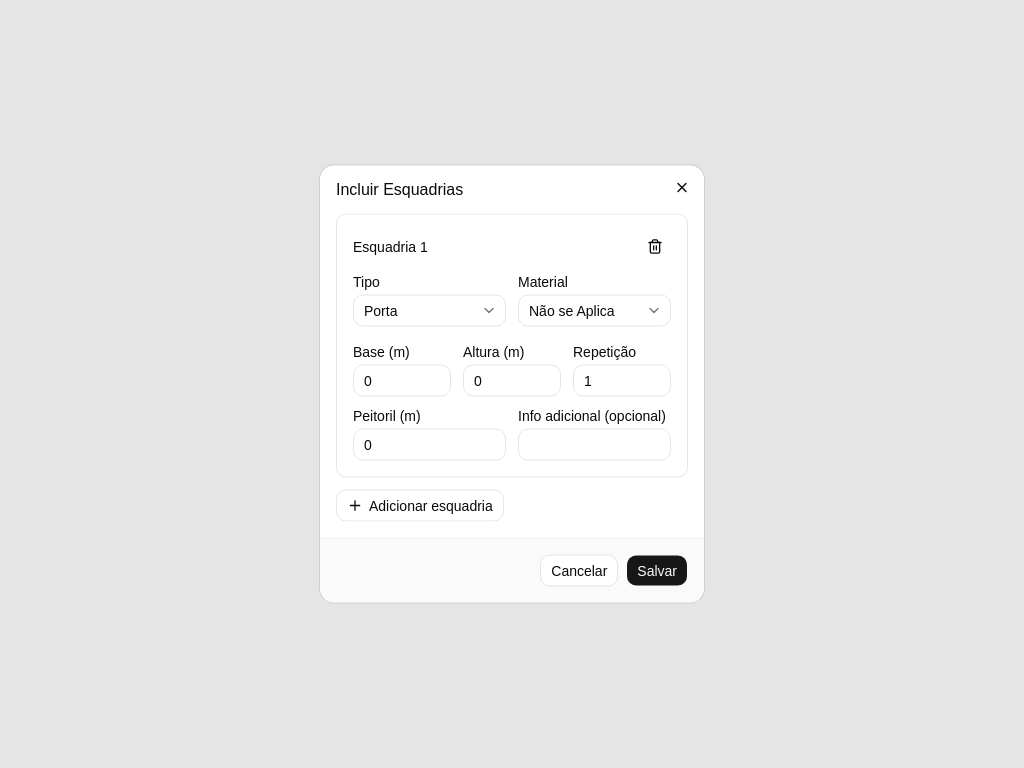
it: ModalEsquadrias (UC12/UC13-FE) › não submete com base vazia (positive) e exibe erro inline
Click the button "Salvar" at (657, 570), box 626,554 -> 688,586
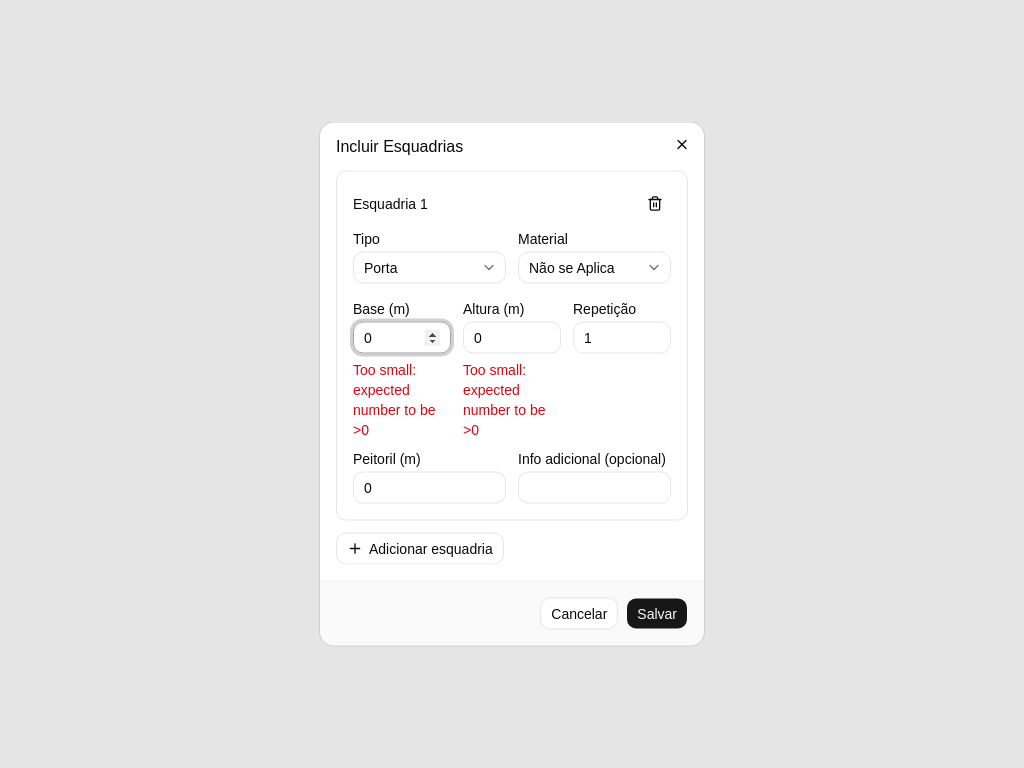
Check: the message below "Base (m)" is shown, box 353,362 -> 436,438
